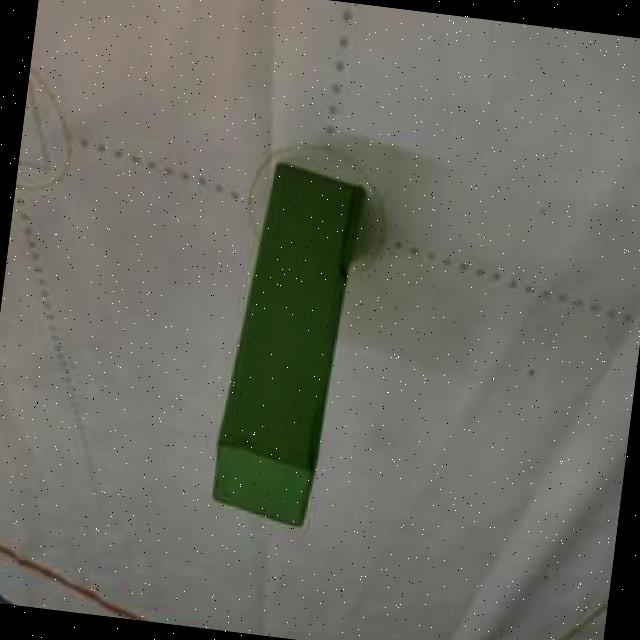greenbox: (210, 156, 356, 528)
